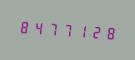eight: (17, 16, 30, 37), (101, 22, 114, 43)
four: (31, 17, 44, 38)
one: (73, 20, 86, 41)
seven: (45, 18, 58, 39), (59, 19, 72, 40)
two: (87, 21, 100, 42)
